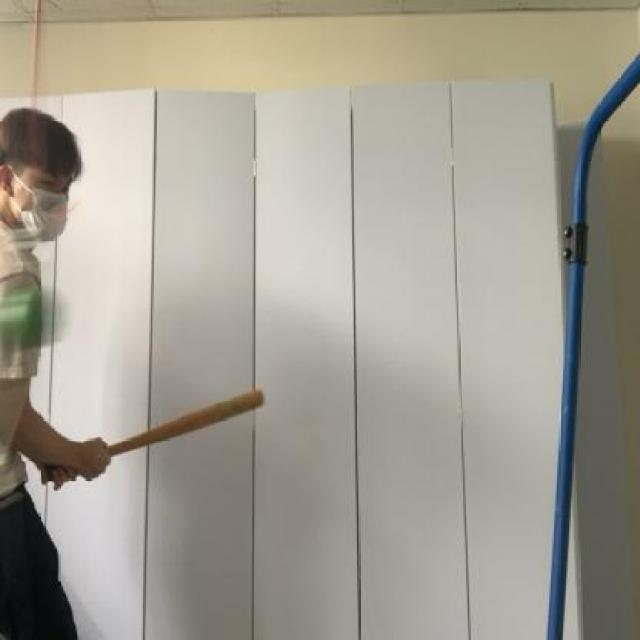baseball: (0, 270, 77, 365)
